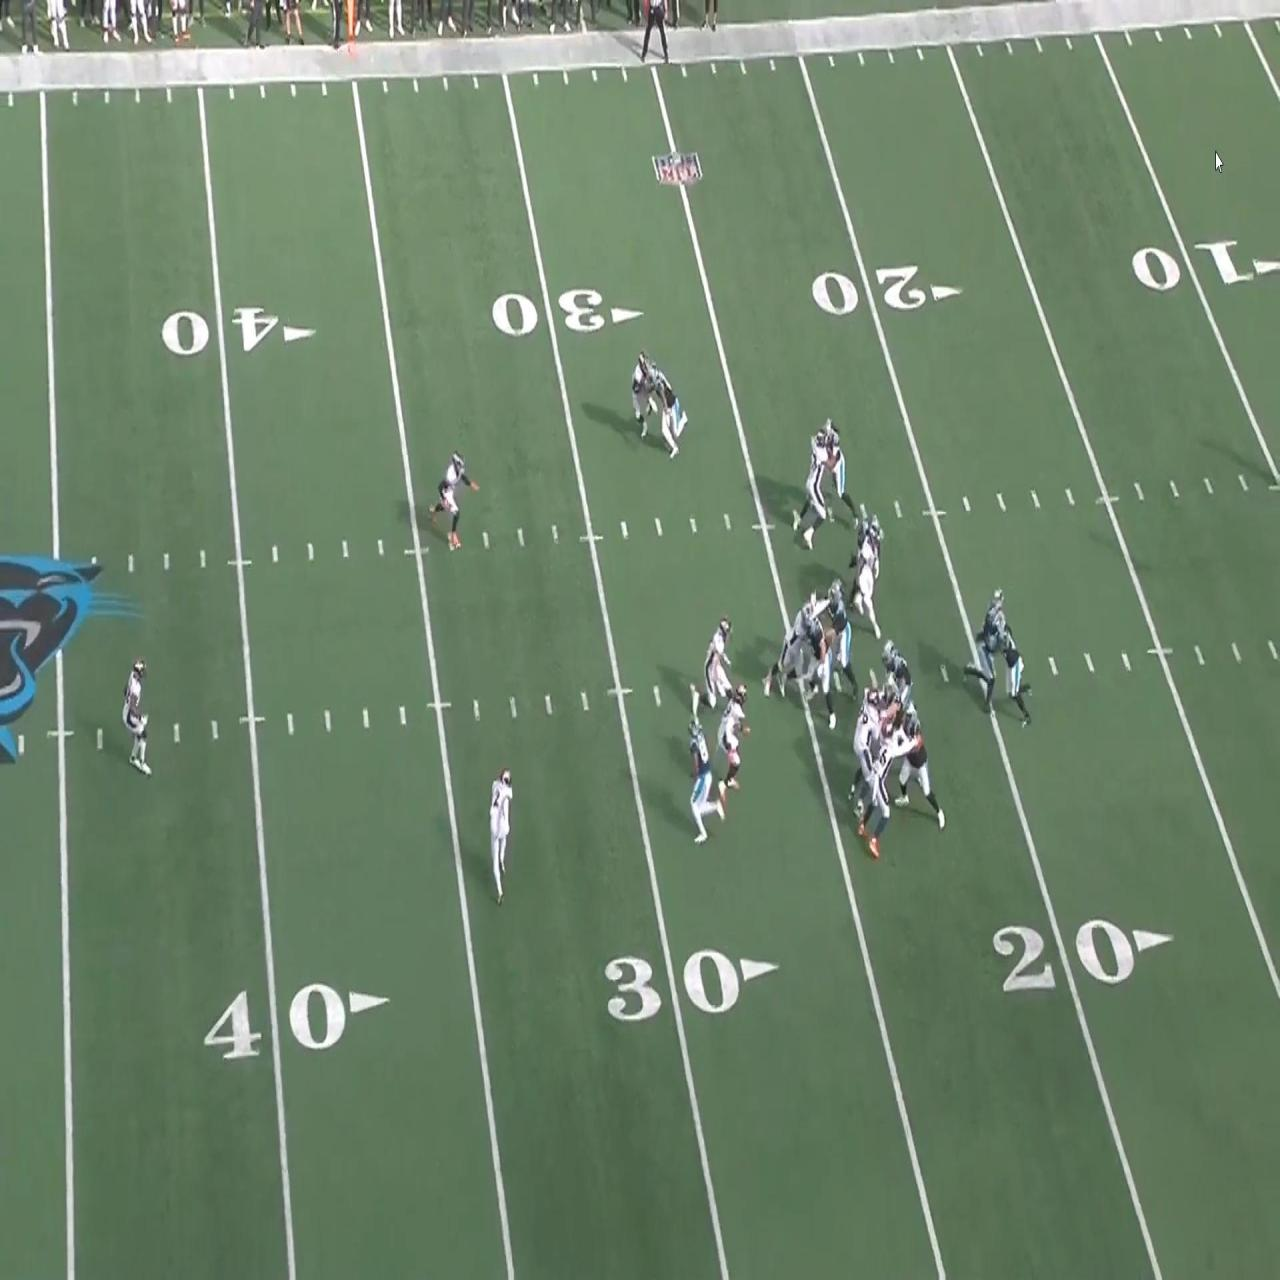10R: (1131, 238, 1280, 291)
20R: (993, 920, 1173, 992), (812, 266, 964, 314)
30R: (605, 948, 779, 1021), (490, 288, 645, 336)
40R: (203, 980, 389, 1061), (162, 305, 315, 354)
